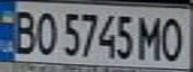4: (96, 10, 121, 58)
5: (115, 11, 139, 61), (57, 9, 81, 57)
7: (78, 9, 100, 58)
B: (6, 6, 39, 55)
M: (136, 12, 166, 61)
O: (157, 12, 190, 62), (30, 7, 60, 56)
